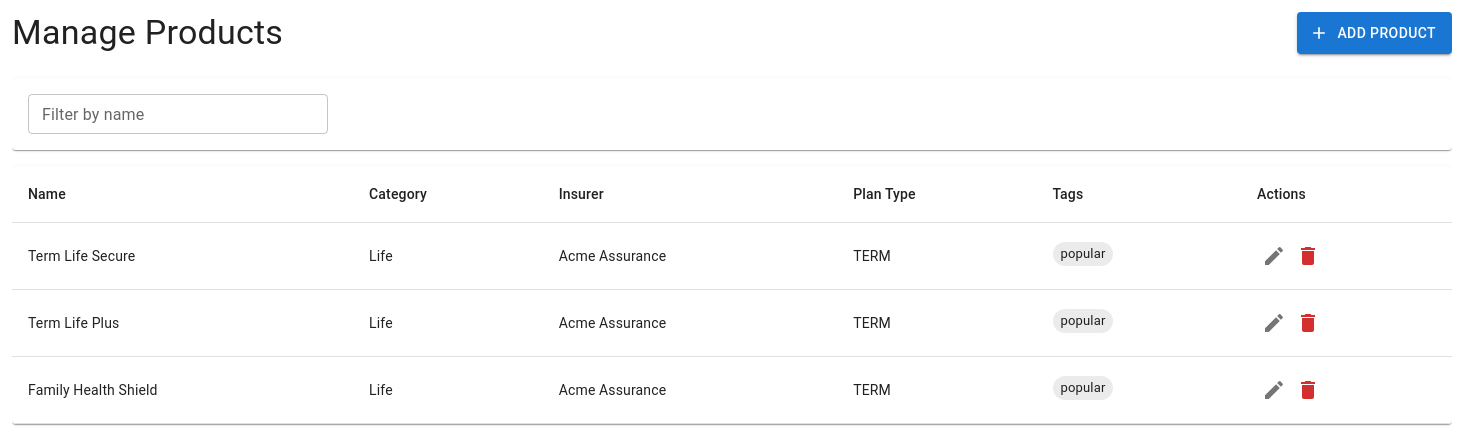
Scenario: ProductManagement name filter › renders an explicit empty state when a filtered search matches nothing
Expected: the text "Term Life Secure" is shown, 12,222 -> 353,290
In the field labelled "Filter by name": [178, 114] box 28,94 -> 328,134, type "Nothing At All"
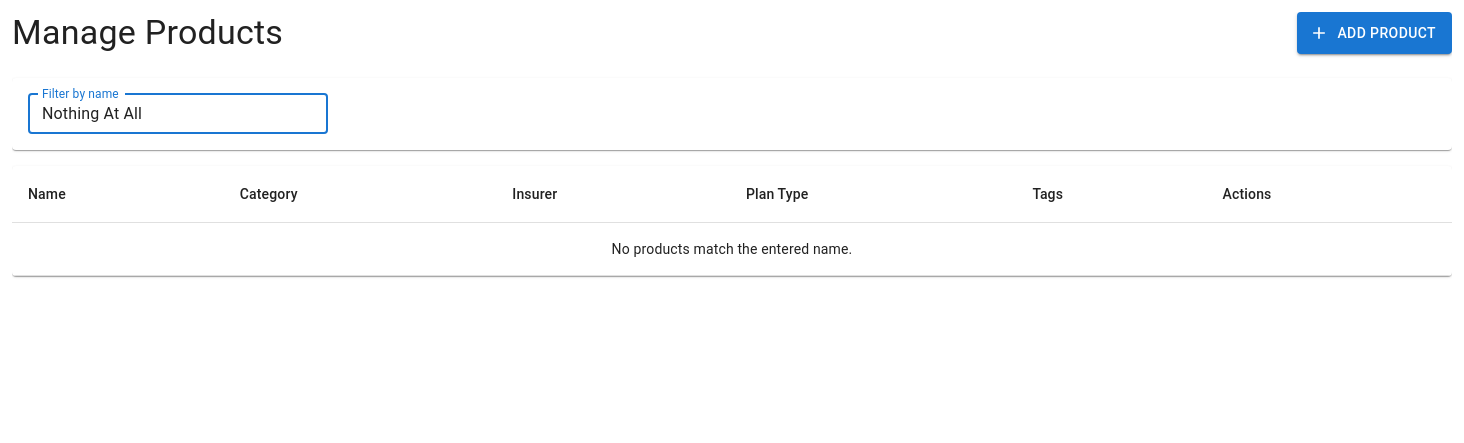
Expected: the text "No products match the entered name." is shown, 12,222 -> 1452,276
